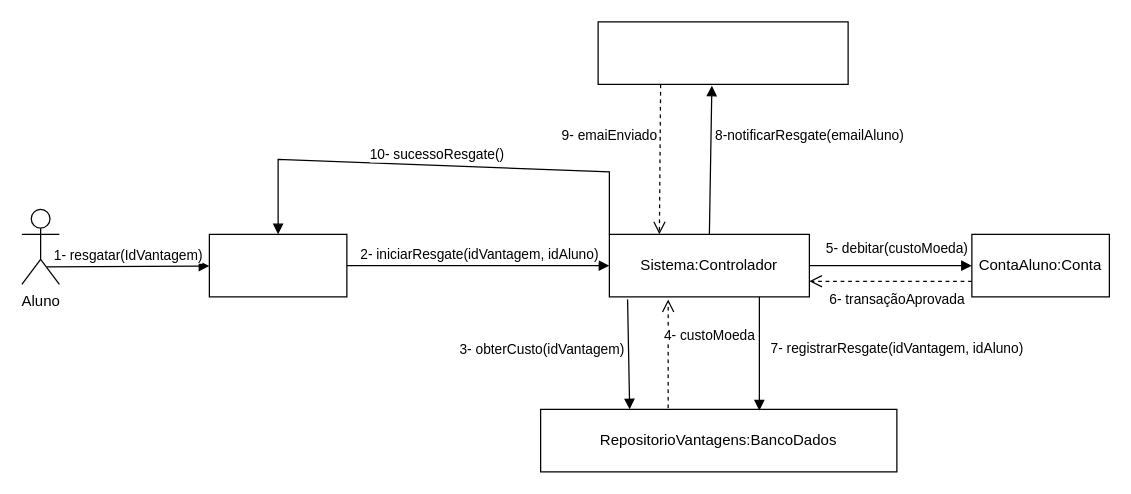
Image size: 1131x494. Some labels were removed from this diagram. Each missing label, with the centre of its shape:
PortalAluno:Tela: (x=277, y=265)
SistemaNotificação:Sistema: (x=722, y=52)
